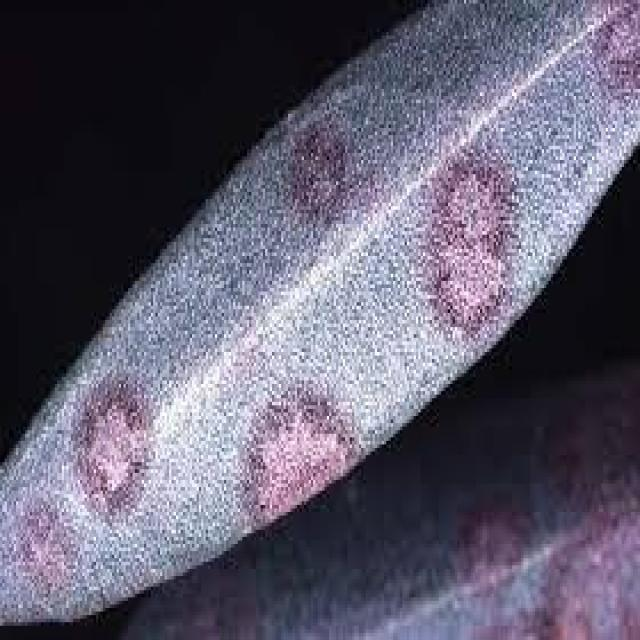OlivePeacockSpot: (0, 0, 638, 619)
